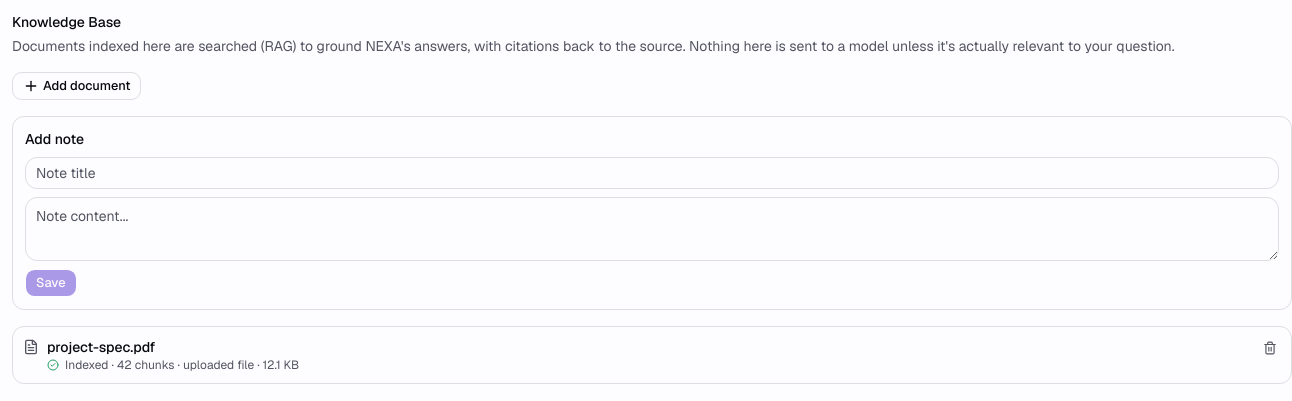
KnowledgeSection (Settings -> Knowledge Base) › removes a document when its remove button is clicked
Check: the text "project-spec.pdf" is shown, box [47,338,155,356]
Click the button named "Remove document: project-spec.pdf": {"x": 1270, "y": 348} [1259,337,1281,359]
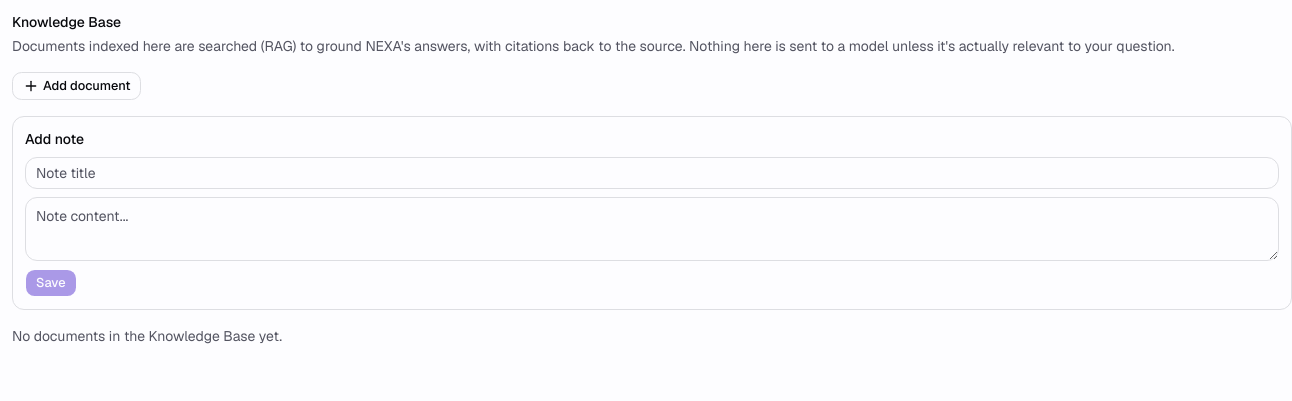
Check: the text "project-spec.pdf" is gone
